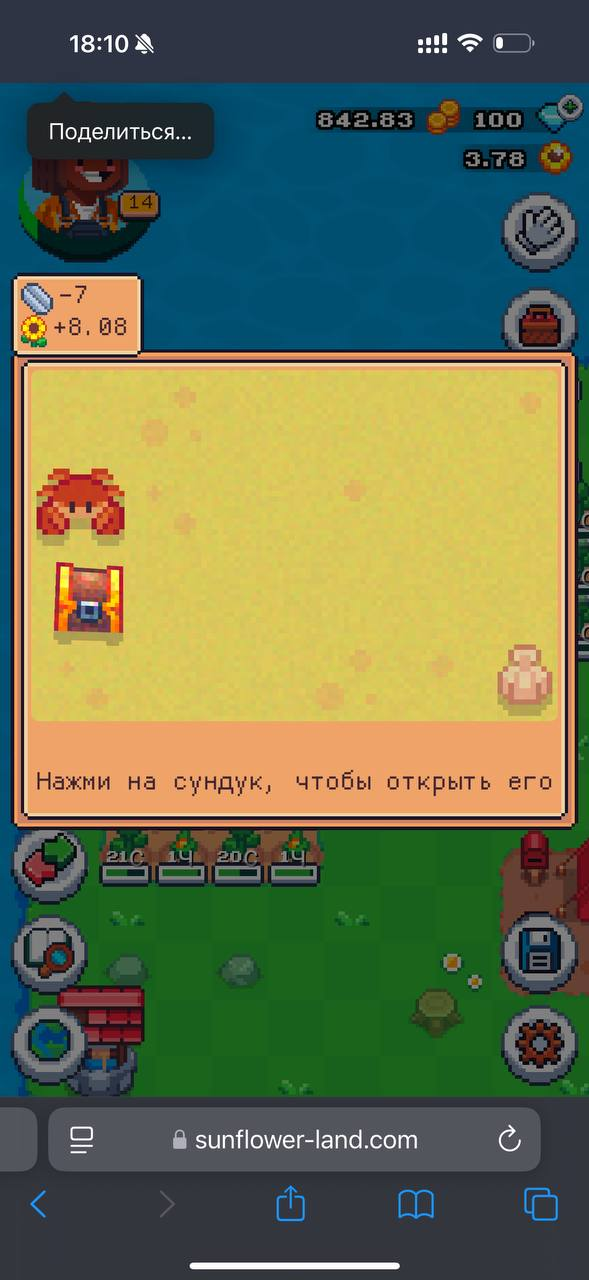capcha_chest: (49, 559, 126, 636)
